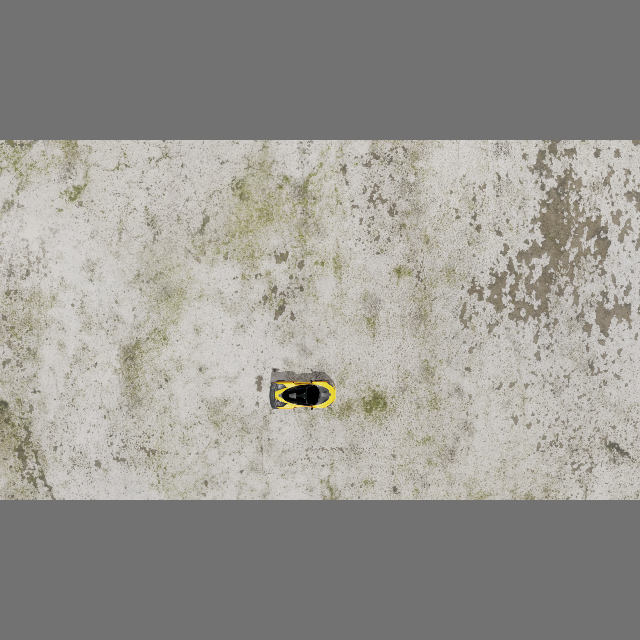car: (269, 379, 337, 412)
